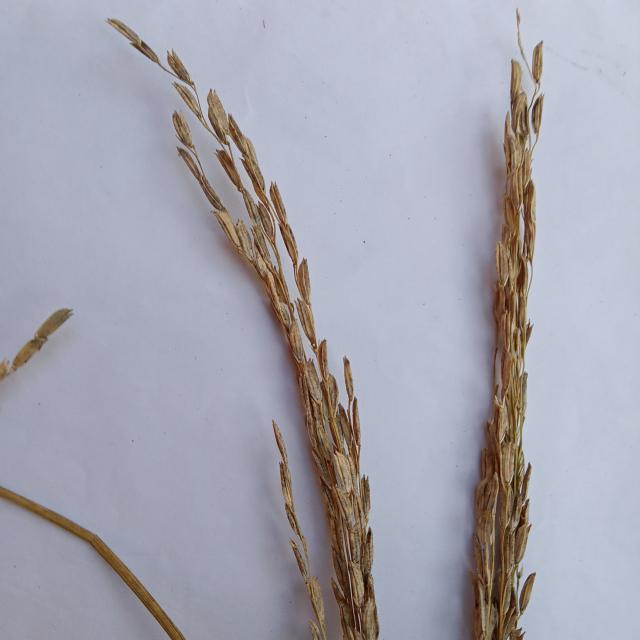Neck_Blast: (223, 204, 378, 639), (478, 63, 541, 640)
